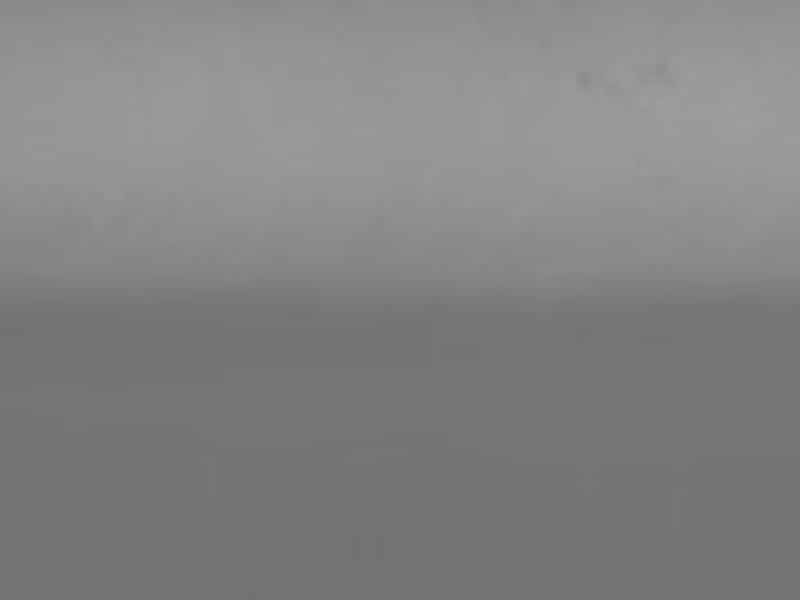defect: (603, 79, 628, 98), (573, 66, 591, 91), (655, 56, 673, 72)
